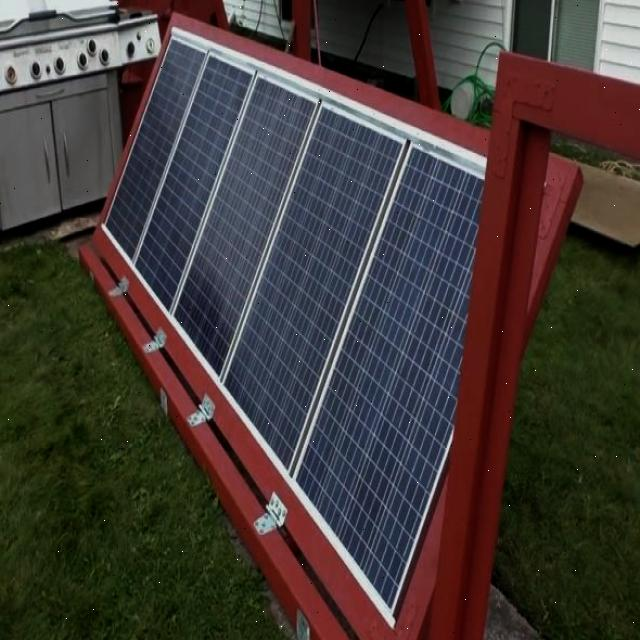Normal Solar Panel: (103, 32, 488, 618)
